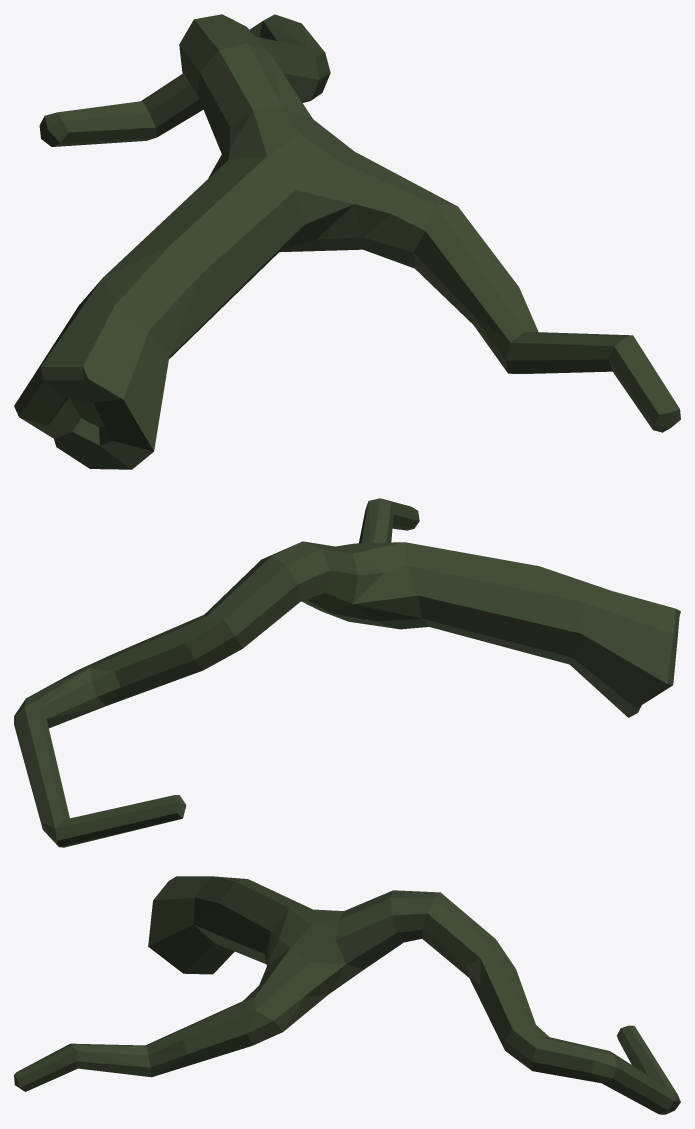
File: EA_branch4.glb
3 renders of one model, top to bottom at view 1: azimuth 30°, elevation 25°; view 2: azimuth 150°, elevation 25°; view 3: azimuth 270°, elevation 25°, orthographic. The views are drawn at different scales.
Visible parts, largest first — view 1: EA_branch4; view 2: EA_branch4; view 3: EA_branch4.
Part boxes in pixels (x1,y1,x2,y2): EA_branch4: (14,14,680,469); EA_branch4: (14,498,680,847); EA_branch4: (14,876,680,1114).
Size of the model in its own units: 2.01 by 0.9404 by 3.08.
Materials: 1 (1 with a texture image).
